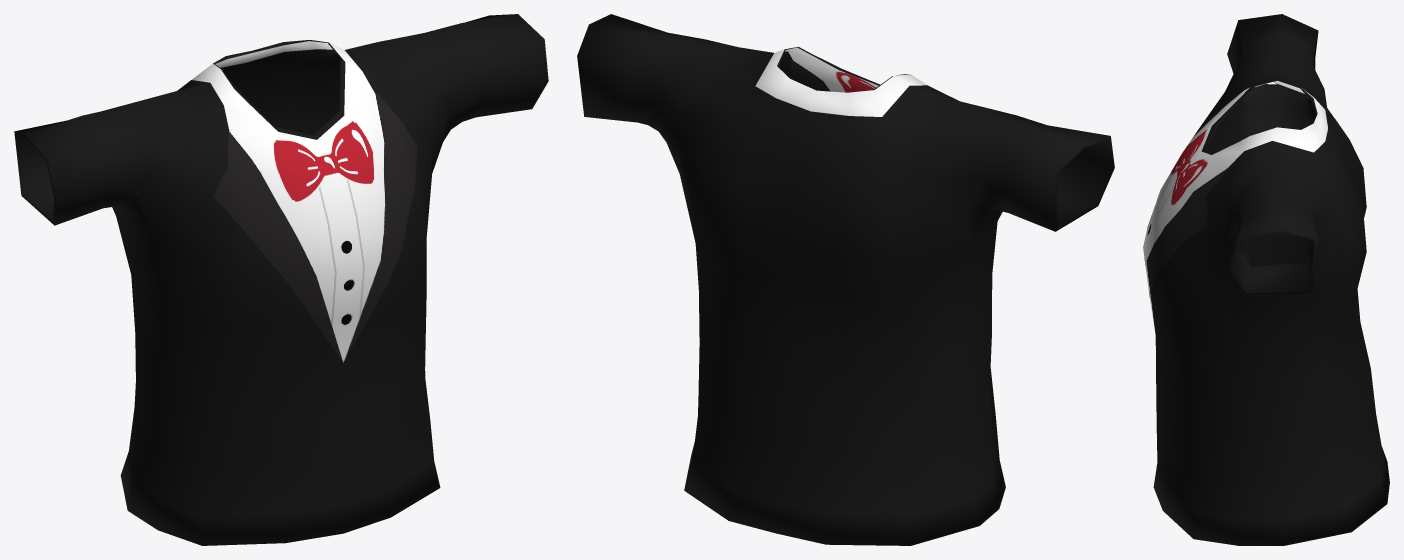
Rendered from M_uBody_TuxedoTshirt.glb.
3 views of the same model, side by side, from view 1: azimuth 30°, elevation 25°; view 2: azimuth 150°, elevation 25°; view 3: azimuth 270°, elevation 25° (orthographic). The views are drawn at different scales.
Visible parts, largest first — view 1: M_uBody_TuxedoTshirt; view 2: M_uBody_TuxedoTshirt; view 3: M_uBody_TuxedoTshirt.
Part boxes in pixels (bbox=[...]): M_uBody_TuxedoTshirt: bbox=[14, 14, 548, 545]; M_uBody_TuxedoTshirt: bbox=[577, 14, 1114, 545]; M_uBody_TuxedoTshirt: bbox=[1143, 14, 1389, 545].
Size of what is drawn, in the model's own units: 1.73 by 1.42 by 0.8299.
1 material, 1 textured.
